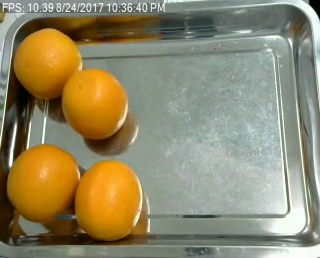Orange: (6, 142, 79, 221), (74, 159, 141, 240), (12, 28, 82, 99), (62, 70, 128, 140)
